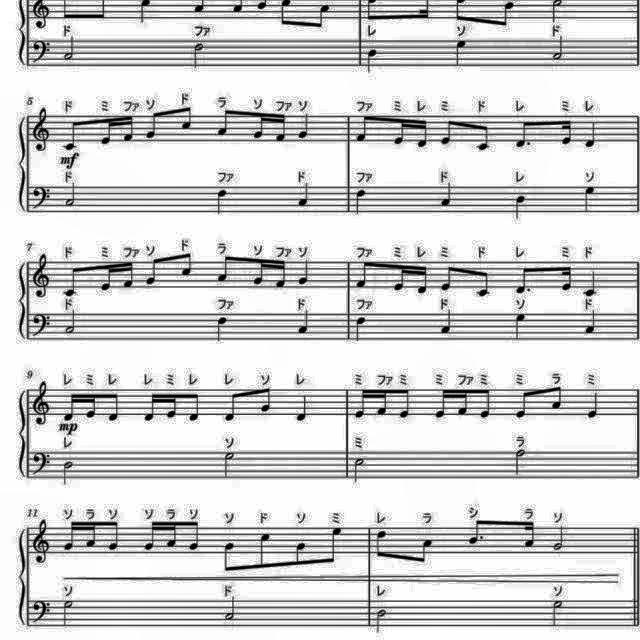Bass-clef: (30, 309, 54, 339), (30, 36, 54, 66), (30, 183, 54, 213), (28, 594, 52, 624), (30, 449, 54, 477)
Eighth-note: (322, 525, 346, 569), (255, 530, 277, 574), (61, 263, 83, 301), (61, 116, 84, 152), (512, 263, 536, 297), (222, 388, 244, 424), (494, 0, 518, 30), (218, 540, 238, 576), (464, 518, 488, 548), (311, 1, 334, 32), (415, 535, 437, 567), (373, 526, 392, 562), (512, 119, 532, 153), (186, 521, 204, 557), (290, 538, 310, 570), (512, 386, 532, 418), (472, 122, 492, 154), (354, 260, 374, 292), (354, 114, 374, 146), (143, 256, 161, 290), (188, 390, 205, 426), (214, 106, 233, 138), (213, 256, 233, 286), (143, 108, 161, 140), (108, 521, 124, 557), (440, 262, 458, 294), (475, 268, 493, 300), (557, 115, 575, 147), (276, 0, 296, 28), (398, 388, 414, 422), (478, 388, 494, 422), (106, 389, 122, 423), (258, 385, 276, 415), (179, 252, 197, 282), (441, 118, 459, 148), (549, 383, 567, 412), (178, 104, 195, 132)
Half-note: (190, 42, 210, 72), (549, 597, 567, 629), (351, 454, 369, 486), (513, 447, 531, 478), (219, 447, 237, 478), (551, 523, 569, 553), (61, 35, 79, 65), (221, 596, 239, 624), (373, 608, 391, 636), (62, 182, 80, 210), (548, 0, 568, 24), (60, 596, 76, 626), (60, 458, 76, 487), (552, 36, 568, 64), (64, 308, 80, 336)
Quarter-note: (452, 36, 472, 68), (582, 268, 602, 298), (212, 313, 232, 343), (582, 308, 602, 336), (438, 308, 458, 336), (581, 183, 599, 213), (583, 118, 601, 148), (513, 311, 531, 341), (293, 394, 311, 424), (296, 259, 314, 289), (213, 185, 231, 215), (297, 112, 315, 142), (352, 316, 370, 346), (352, 188, 370, 218), (294, 308, 312, 337), (296, 182, 314, 210), (439, 180, 457, 208), (362, 46, 380, 74), (586, 388, 602, 419), (514, 191, 530, 221)
Sixteenth-note: (61, 521, 79, 557), (141, 388, 159, 424), (520, 518, 540, 550), (60, 392, 80, 424), (141, 519, 159, 553), (96, 116, 114, 150), (352, 386, 370, 420), (414, 263, 431, 297), (97, 264, 115, 296), (389, 262, 407, 294), (390, 116, 408, 148), (82, 521, 98, 555), (274, 112, 290, 146), (416, 117, 432, 151), (433, 384, 449, 416), (162, 522, 178, 554), (120, 114, 136, 146), (274, 260, 290, 292), (162, 392, 178, 424), (120, 260, 136, 292), (84, 390, 100, 420), (375, 389, 391, 419), (558, 263, 574, 293), (252, 260, 268, 288), (252, 114, 268, 142), (456, 390, 470, 418)
Treble-clef: (30, 107, 54, 157), (30, 516, 54, 566), (30, 252, 54, 302), (30, 378, 54, 428)
